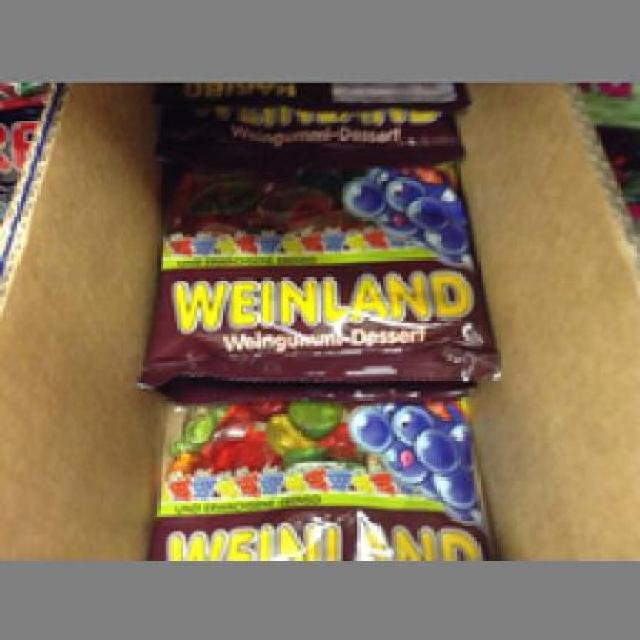Candy: (160, 156, 483, 392), (154, 402, 483, 548)
